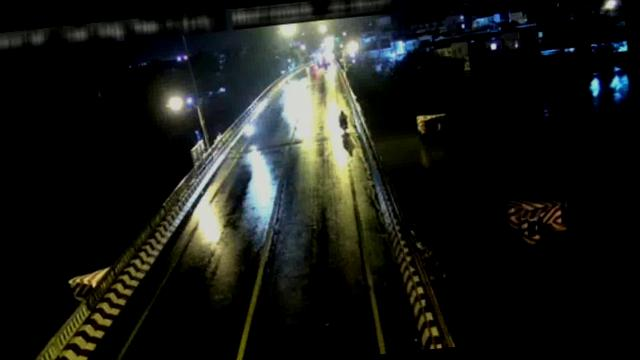Bike: (338, 109, 352, 134)
